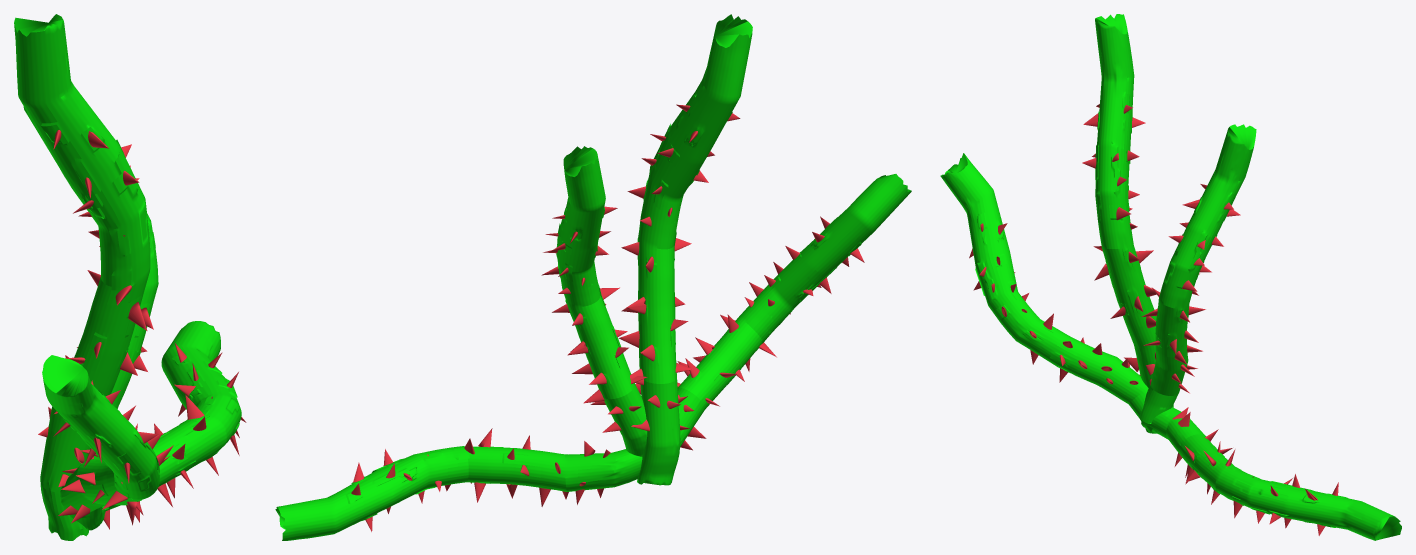
File: WallVines.fbx
3 views of the same model, side by side, from view 1: azimuth 30°, elevation 25°; view 2: azimuth 150°, elevation 25°; view 3: azimuth 270°, elevation 25° (orthographic). The views are drawn at different scales.
Visible parts, largest first — view 1: Cylinder, Cylinder.003, Cylinder.002, Cylinder.001; view 2: Cylinder, Cylinder.002, Cylinder.003, Cylinder.001; view 3: Cylinder, Cylinder.003, Cylinder.001, Cylinder.002.
Part boxes in pixels (bbox=[...]): Cylinder: bbox=[14, 14, 150, 540]; Cylinder.003: bbox=[42, 355, 173, 530]; Cylinder.002: bbox=[95, 321, 246, 529]; Cylinder.001: bbox=[23, 106, 158, 509]; Cylinder: bbox=[619, 14, 752, 485]; Cylinder.002: bbox=[275, 428, 642, 540]; Cylinder.003: bbox=[677, 174, 911, 450]; Cylinder.001: bbox=[541, 146, 647, 456]; Cylinder: bbox=[1082, 14, 1173, 433]; Cylinder.003: bbox=[940, 153, 1152, 432]; Cylinder.001: bbox=[1139, 124, 1256, 423]; Cylinder.002: bbox=[1140, 407, 1401, 540].
Bounding box in the file's own units: 221 × 260 × 265.
